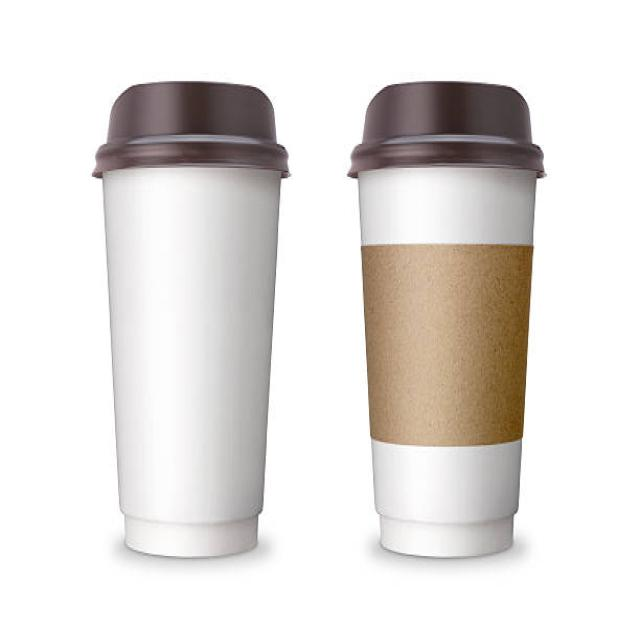cup: (346, 78, 550, 560), (93, 79, 291, 558)
